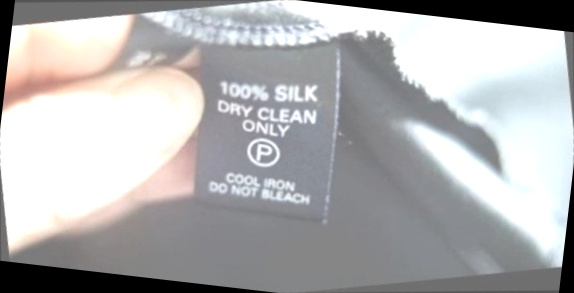dry_clean_any_solvent_except_trichloroethylene: (240, 128, 290, 176)
